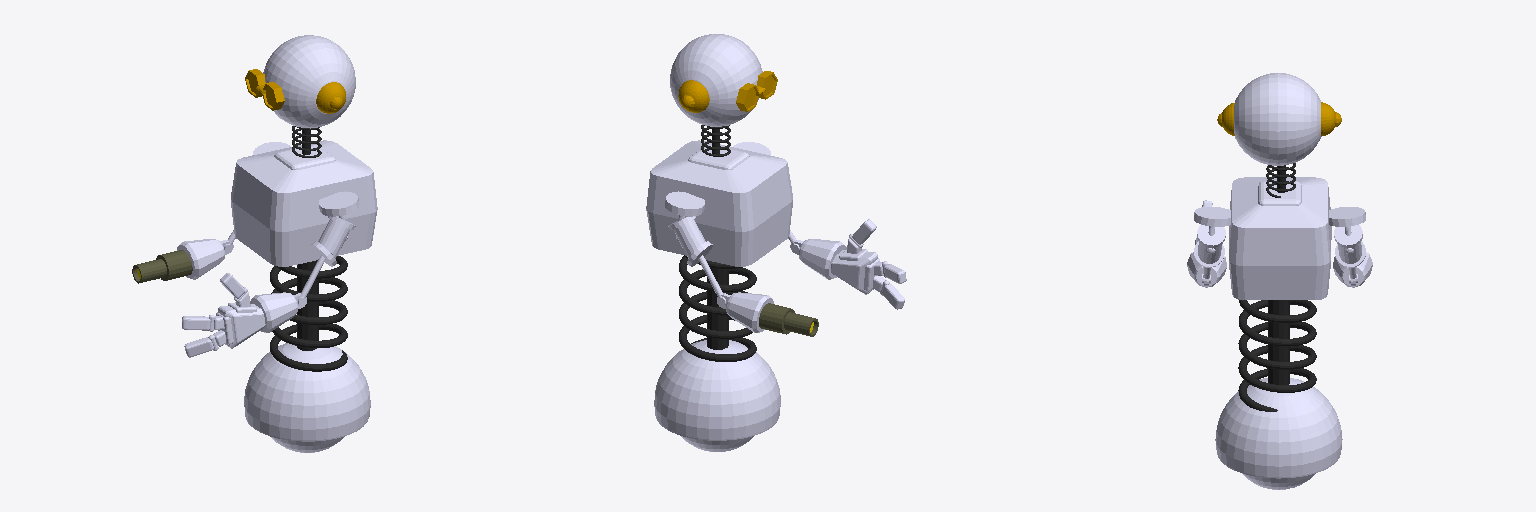
Rendered from robot.obj.
The picture shows the model from 3 angles: view 1: azimuth 30°, elevation 25°; view 2: azimuth 150°, elevation 25°; view 3: azimuth 270°, elevation 25°; orthographic projection.
Visible parts, largest first — view 1: ChamferBox13, Sphere04, Sphere01, Helix01, Capsule07, Capsule14, ChamferBox16, Line01, Cylinder29, Cylinder01, Cylinder27, Sphere03 (+2 smaller); view 2: ChamferBox13, Sphere04, Sphere01, Helix01, Capsule14, Capsule07, ChamferBox16, Line01, Cylinder50, Cylinder01, Cylinder48, Sphere02 (+3 smaller); view 3: ChamferBox13, Sphere04, Sphere01, Helix01, Line01, Cylinder29, Cylinder50, Capsule07, Capsule14, Sphere05.
Part boxes in pixels (left/top/right/bottom): ChamferBox13: left=231, top=140, right=377, bottom=266; Sphere04: left=244, top=343, right=370, bottom=441; Sphere01: left=263, top=35, right=355, bottom=128; Helix01: left=270, top=256, right=347, bottom=371; Capsule07: left=250, top=292, right=297, bottom=332; Capsule14: left=177, top=239, right=224, bottom=279; ChamferBox16: left=218, top=304, right=265, bottom=348; Line01: left=297, top=260, right=318, bottom=350; Cylinder29: left=319, top=191, right=358, bottom=216; Cylinder01: left=156, top=250, right=192, bottom=280; Cylinder27: left=318, top=219, right=349, bottom=258; Sphere03: left=316, top=82, right=345, bottom=113; ChamferBox13: left=646, top=140, right=792, bottom=266; Sphere04: left=654, top=340, right=780, bottom=440; Sphere01: left=670, top=34, right=762, bottom=126; Helix01: left=679, top=255, right=756, bottom=361; Capsule14: left=726, top=292, right=773, bottom=332; Capsule07: left=799, top=239, right=846, bottom=279; ChamferBox16: left=831, top=250, right=877, bottom=294; Line01: left=707, top=268, right=728, bottom=349; Cylinder50: left=665, top=191, right=704, bottom=216; Cylinder01: left=759, top=303, right=794, bottom=334; Cylinder48: left=674, top=219, right=705, bottom=258; Sphere02: left=678, top=80, right=709, bottom=112; ChamferBox13: left=1229, top=177, right=1331, bottom=299; Sphere04: left=1215, top=378, right=1342, bottom=478; Sphere01: left=1234, top=73, right=1321, bottom=165; Helix01: left=1238, top=300, right=1316, bottom=411; Line01: left=1268, top=300, right=1289, bottom=384; Cylinder29: left=1194, top=207, right=1230, bottom=226; Cylinder50: left=1329, top=207, right=1365, bottom=226; Capsule07: left=1187, top=252, right=1226, bottom=287; Capsule14: left=1333, top=252, right=1372, bottom=287; Sphere05: left=1242, top=473, right=1315, bottom=489.
Bounding box in the file's own units: 349 × 644 × 266.